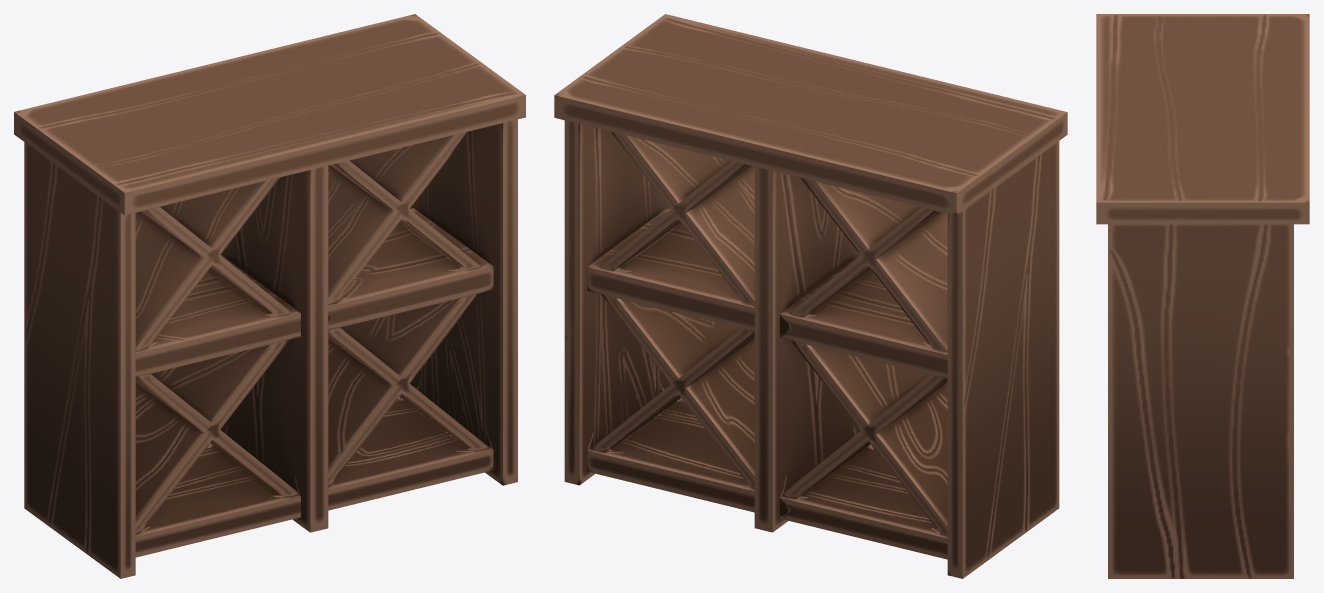
Rendered from wine_shelf.fbx.
3 views of the same model, side by side, from view 1: azimuth 30°, elevation 25°; view 2: azimuth 150°, elevation 25°; view 3: azimuth 270°, elevation 25° (orthographic). The views are drawn at different scales.
Parts seen in each view (by area): view 1: wine_shelf; view 2: wine_shelf; view 3: wine_shelf.
Boxes of the visible parts, x1=… form: wine_shelf: x1=14, y1=14, x2=525, y2=578; wine_shelf: x1=554, y1=14, x2=1067, y2=578; wine_shelf: x1=1096, y1=14, x2=1309, y2=578.
Bounding box in the file's own units: 160 × 149 × 76.39.
Materials: 1 (1 with a texture image).
